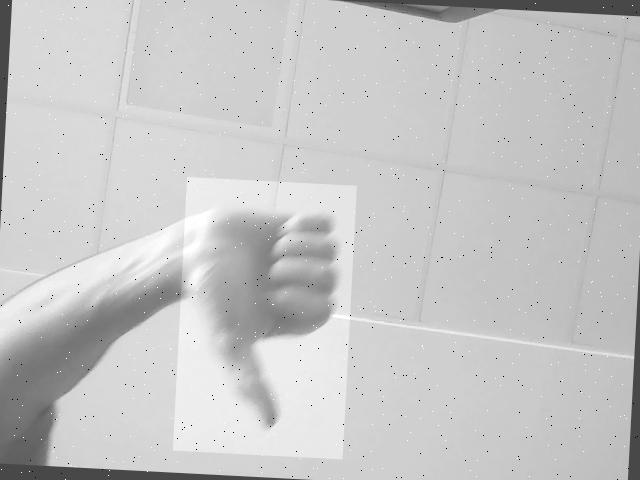bad: (173, 176, 357, 460)
